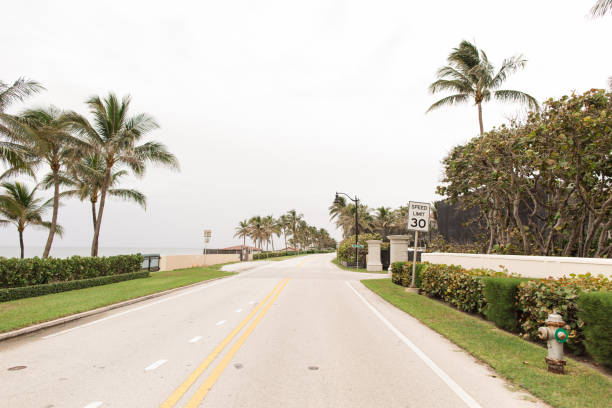SpeedLimitSign: (407, 199, 431, 231)
